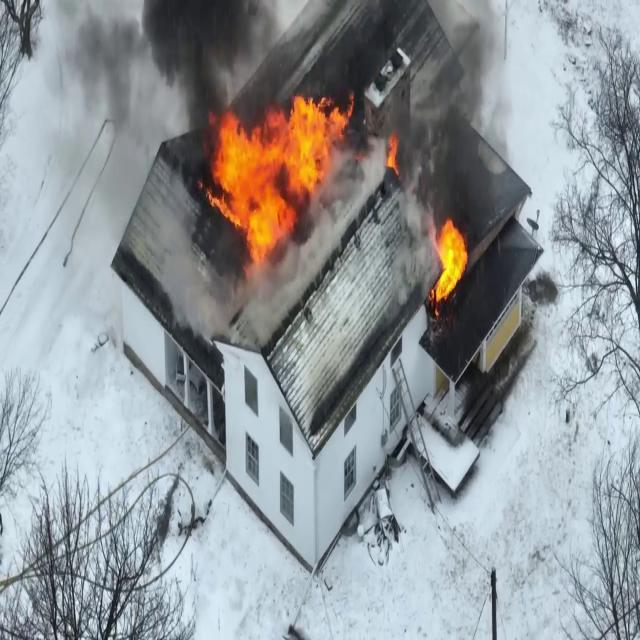Fire: (205, 81, 351, 267), (428, 209, 472, 311), (379, 127, 402, 177)
Smoke: (54, 0, 247, 155), (393, 0, 508, 215)
